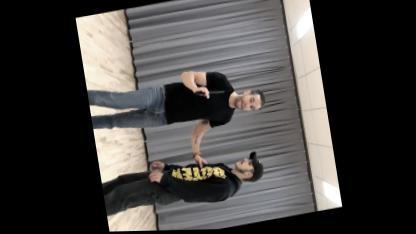knife: (194, 83, 226, 102)
